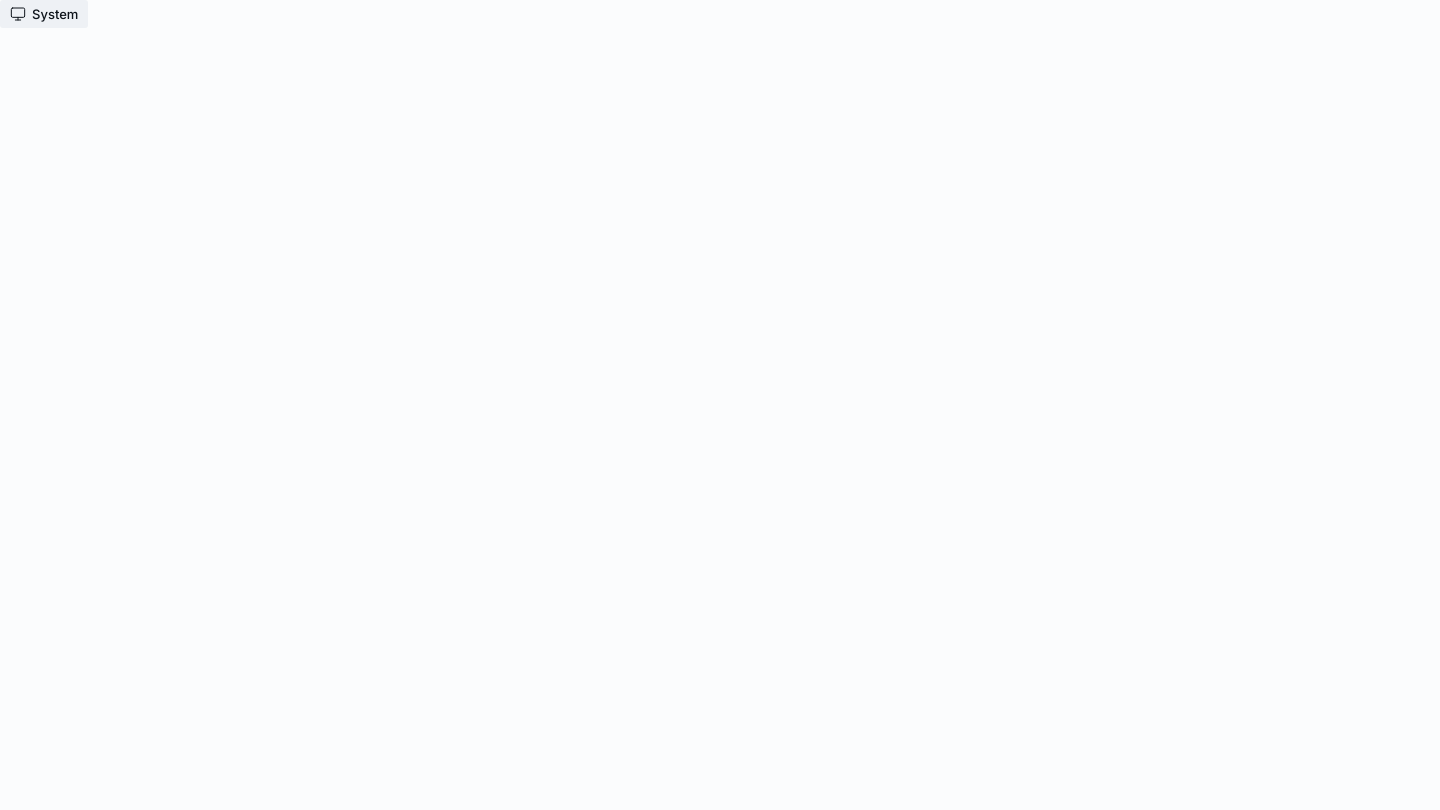
TopBar › steps the theme through System, Light and Dark, saying which is on
Click the button with aria-label "Theme: " at (44, 14), box [0, 0, 88, 28]
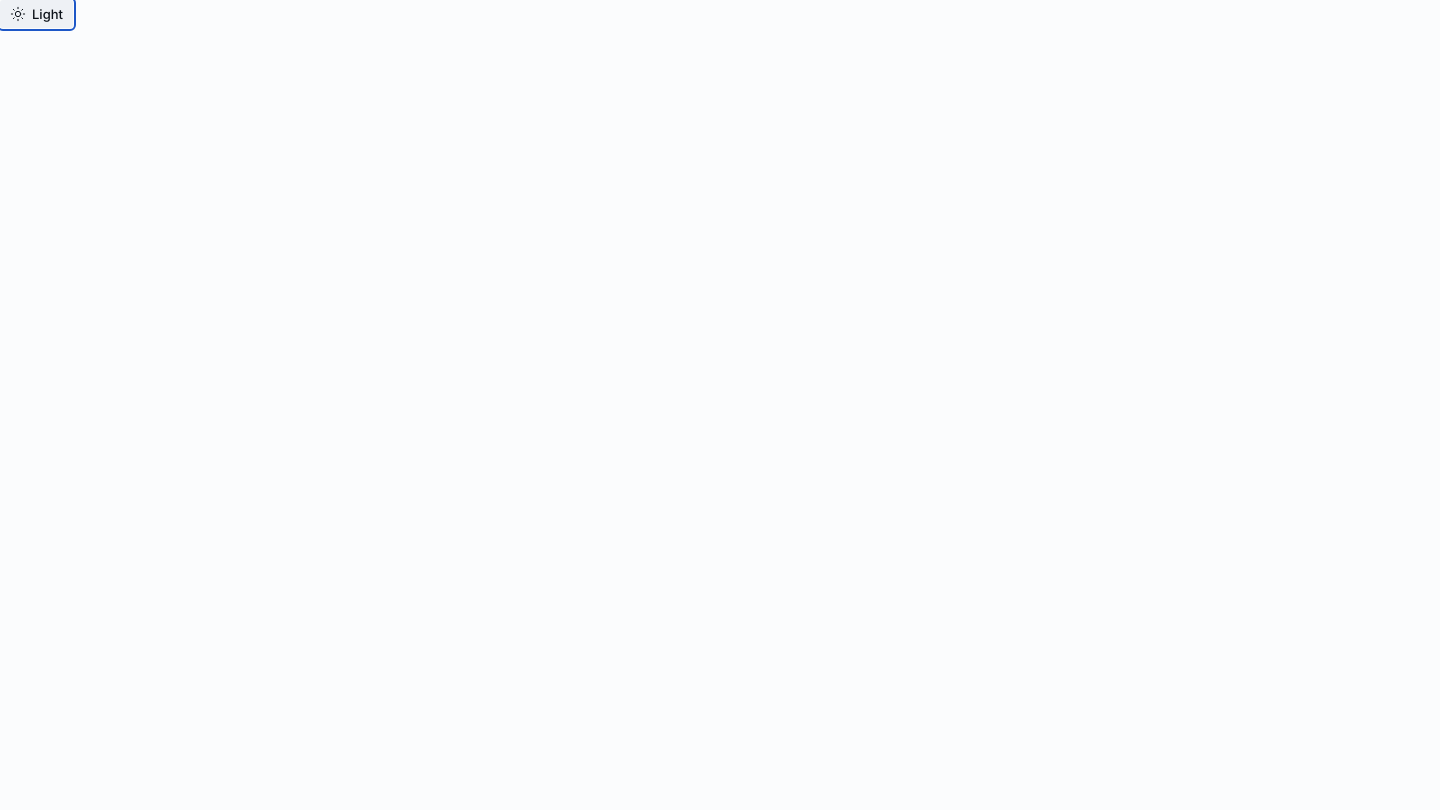
Click the button with aria-label "Theme: " at (36, 14), box [0, 0, 73, 28]
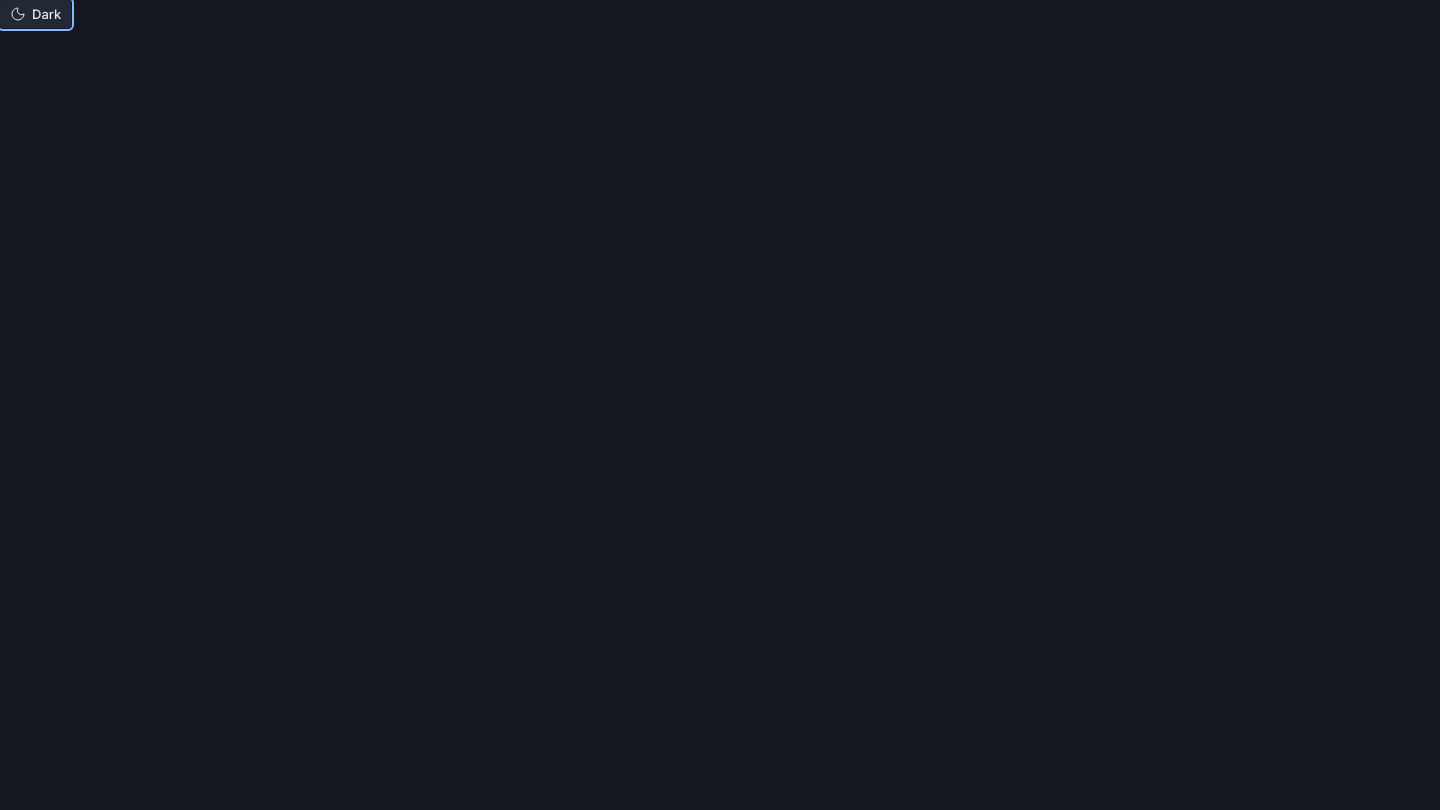
Expected: the button with aria-label "Theme: " reads "Dark"
Click the button with aria-label "Theme: " at (36, 14), box [0, 0, 71, 28]
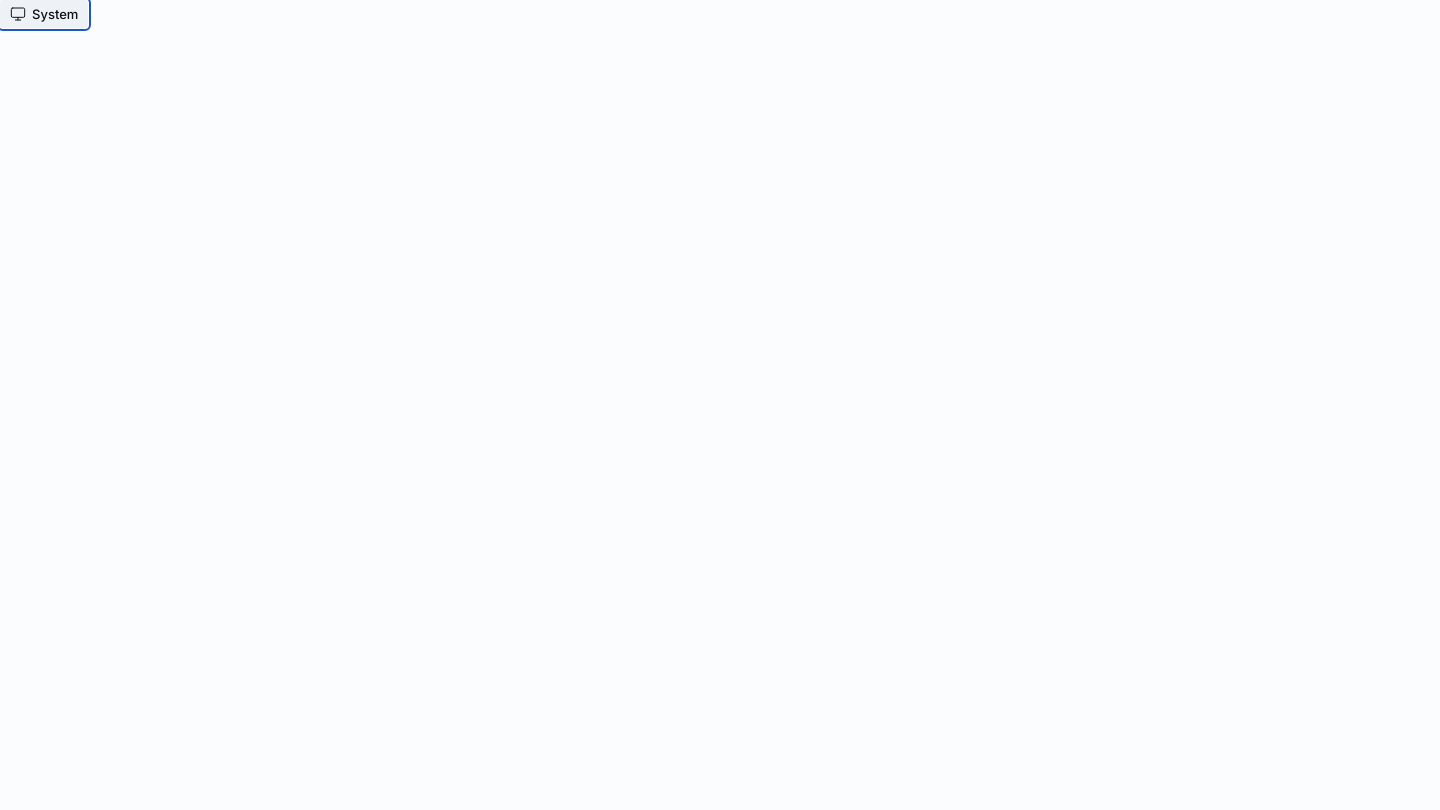
Expected: the button with aria-label "Theme: " reads "System", [0, 0, 88, 28]
